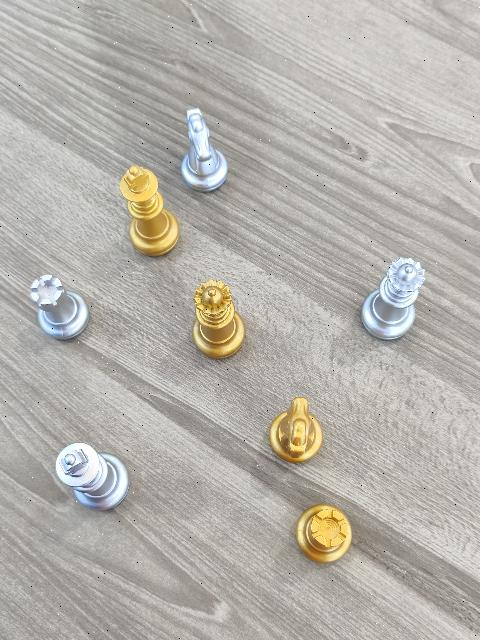black_king: (120, 165, 180, 258)
black_knight: (268, 395, 325, 467)
black_queen: (191, 280, 247, 361)
black_rook: (295, 505, 355, 567)
white_king: (53, 442, 132, 514)
white_knight: (179, 107, 230, 194)
white_queen: (358, 254, 428, 342)
white_rook: (29, 274, 90, 339)
